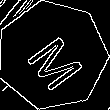M_NE: (18, 22, 87, 89)
